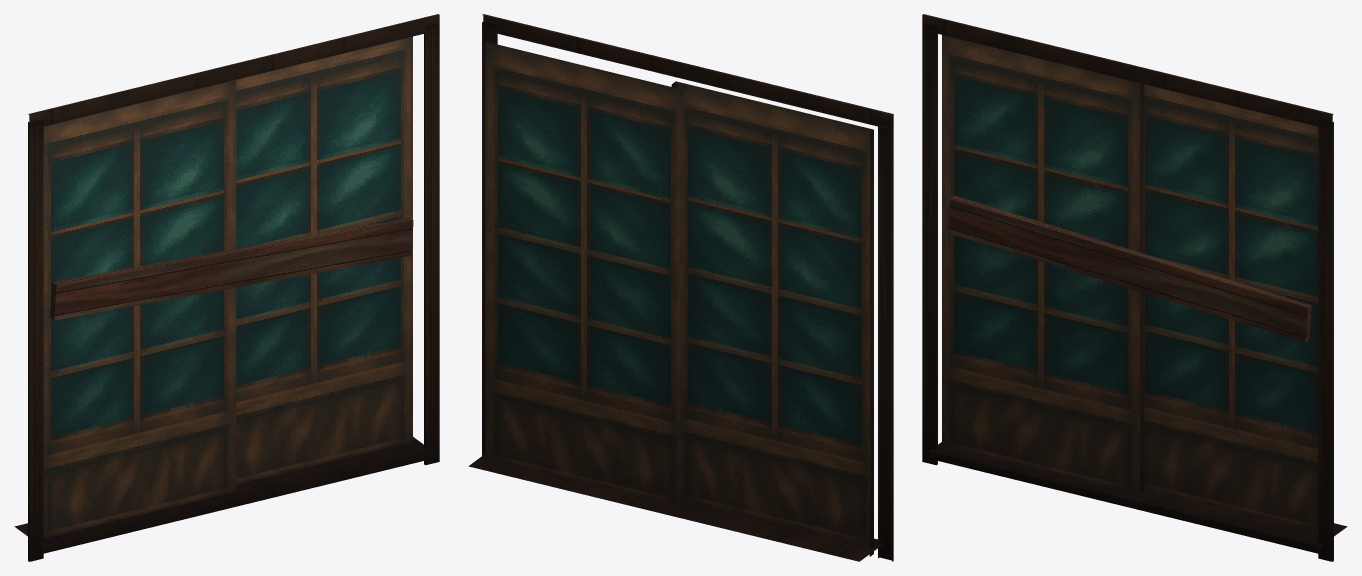
Rendered from prop_sash-16-17-5.glb.
3 views of the same model, side by side, from view 1: azimuth 30°, elevation 25°; view 2: azimuth 150°, elevation 25°; view 3: azimuth 330°, elevation 25° (orthographic).
Visible parts, largest first — view 1: prop_sash-16-17-5; view 2: prop_sash-16-17-5; view 3: prop_sash-16-17-5.
Part boxes in pixels (box(x1,y1,x2,y2)): prop_sash-16-17-5: box(14, 14, 439, 561); prop_sash-16-17-5: box(468, 14, 893, 561); prop_sash-16-17-5: box(922, 14, 1347, 561).
Size of the model in its own units: 1.72 by 1.79 by 0.2.
3 materials, 3 textured.
